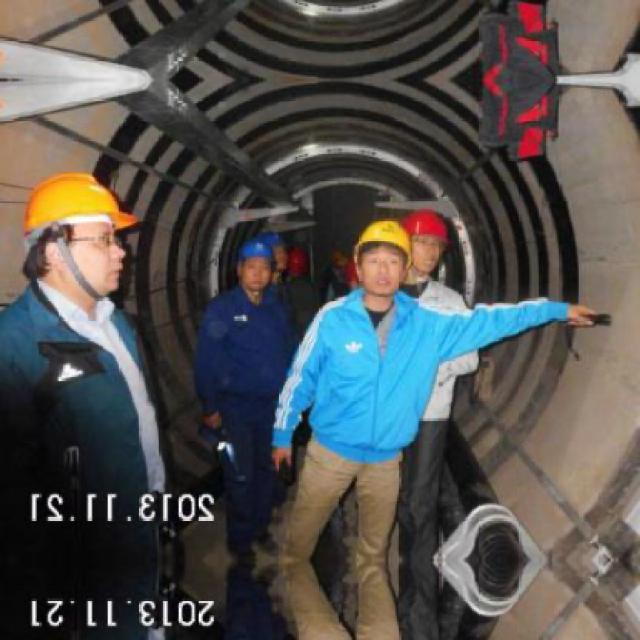helmet: (18, 163, 138, 306), (351, 210, 418, 298), (402, 208, 452, 275), (232, 228, 280, 292), (260, 234, 291, 272), (289, 243, 311, 283)
